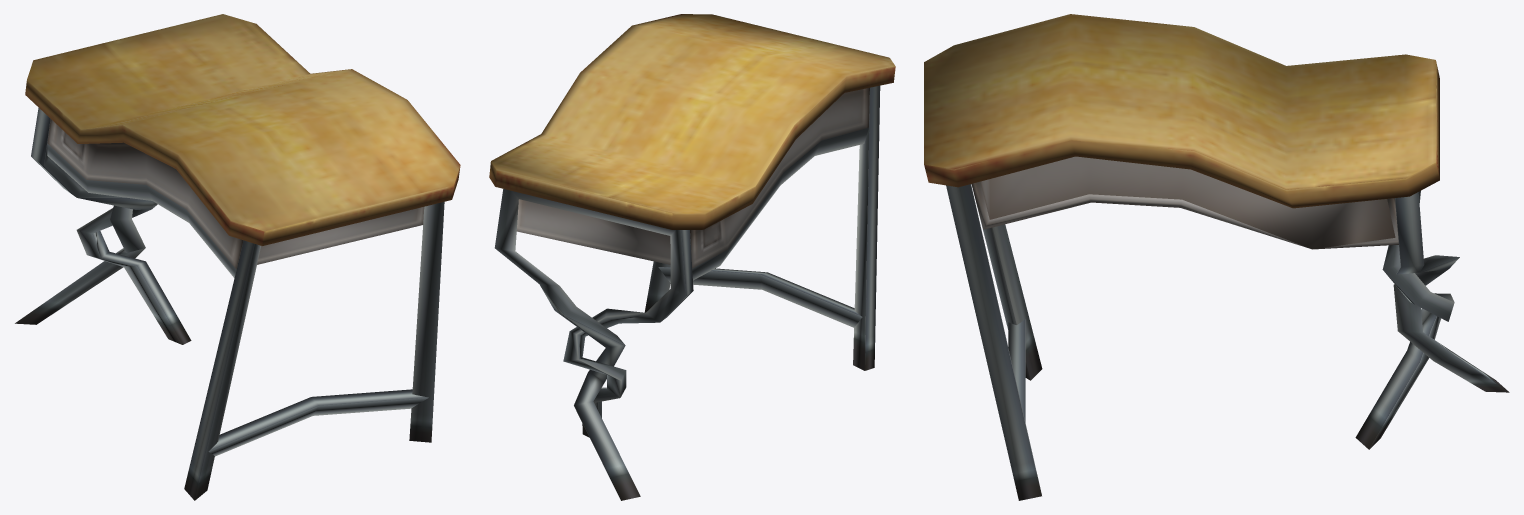
Rendered from a_ESDdesk01.glb.
3 renders of one model, left to right at view 1: azimuth 30°, elevation 25°; view 2: azimuth 150°, elevation 25°; view 3: azimuth 270°, elevation 25°, orthographic. The views are drawn at different scales.
Parts seen in each view (by area): view 1: a_ESDdesk01; view 2: a_ESDdesk01; view 3: a_ESDdesk01.
Part boxes in pixels (x1,y1,x2,y2): a_ESDdesk01: (15, 14, 460, 500); a_ESDdesk01: (489, 14, 895, 500); a_ESDdesk01: (924, 14, 1509, 500).
Size of the model in its own units: 0.5936 by 0.7862 by 1.15.
Materials: 1 (1 with a texture image).
